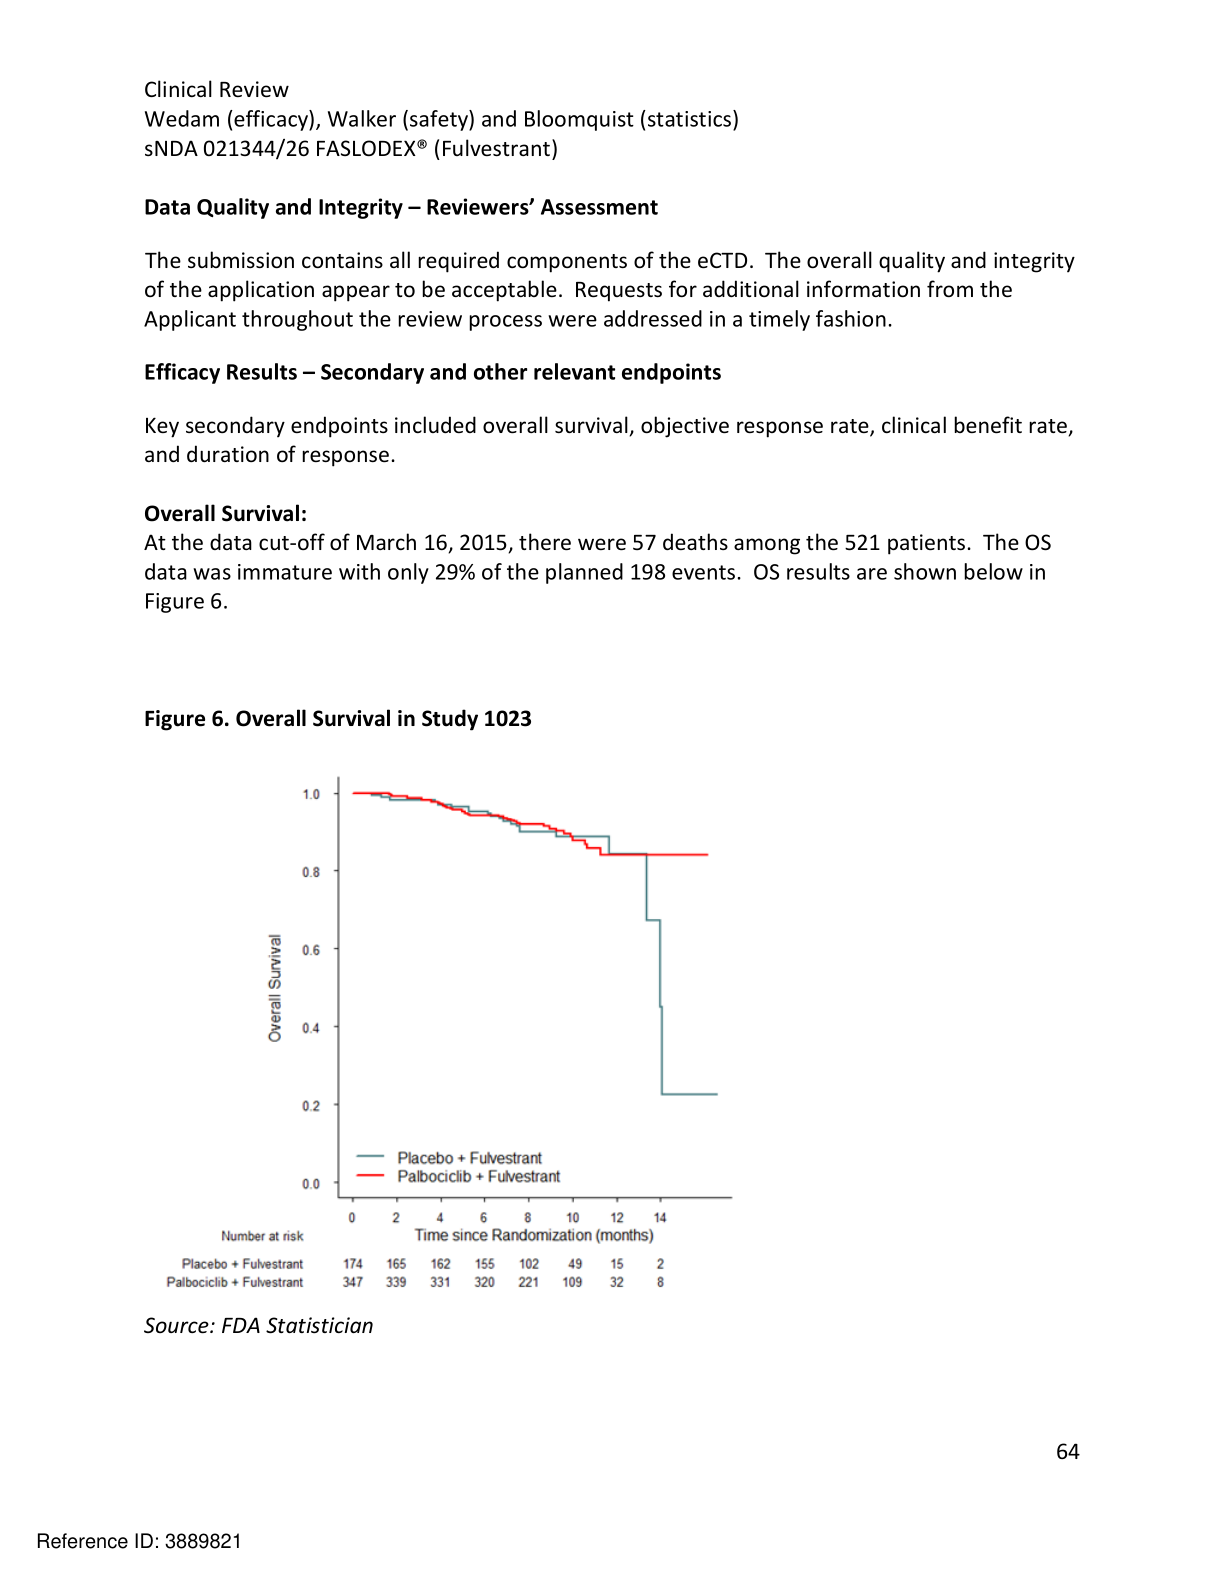nolines: (165, 1254, 667, 1291)
